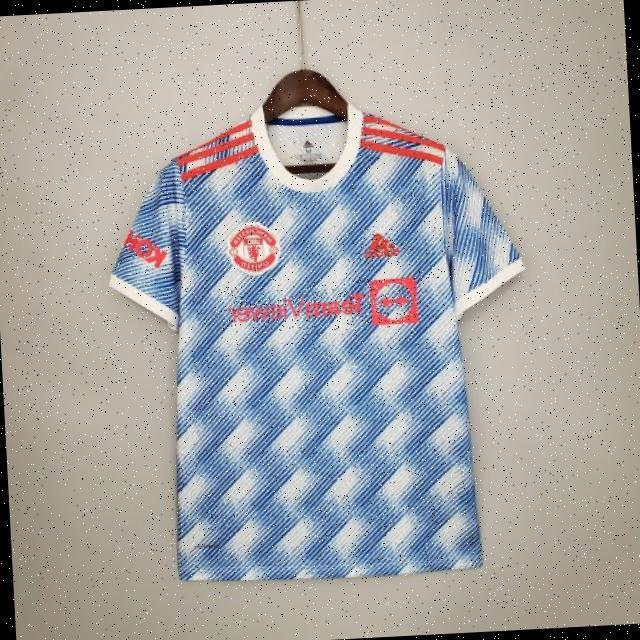Adidas: (357, 228, 400, 262)
TeamViewer: (223, 277, 419, 336)
